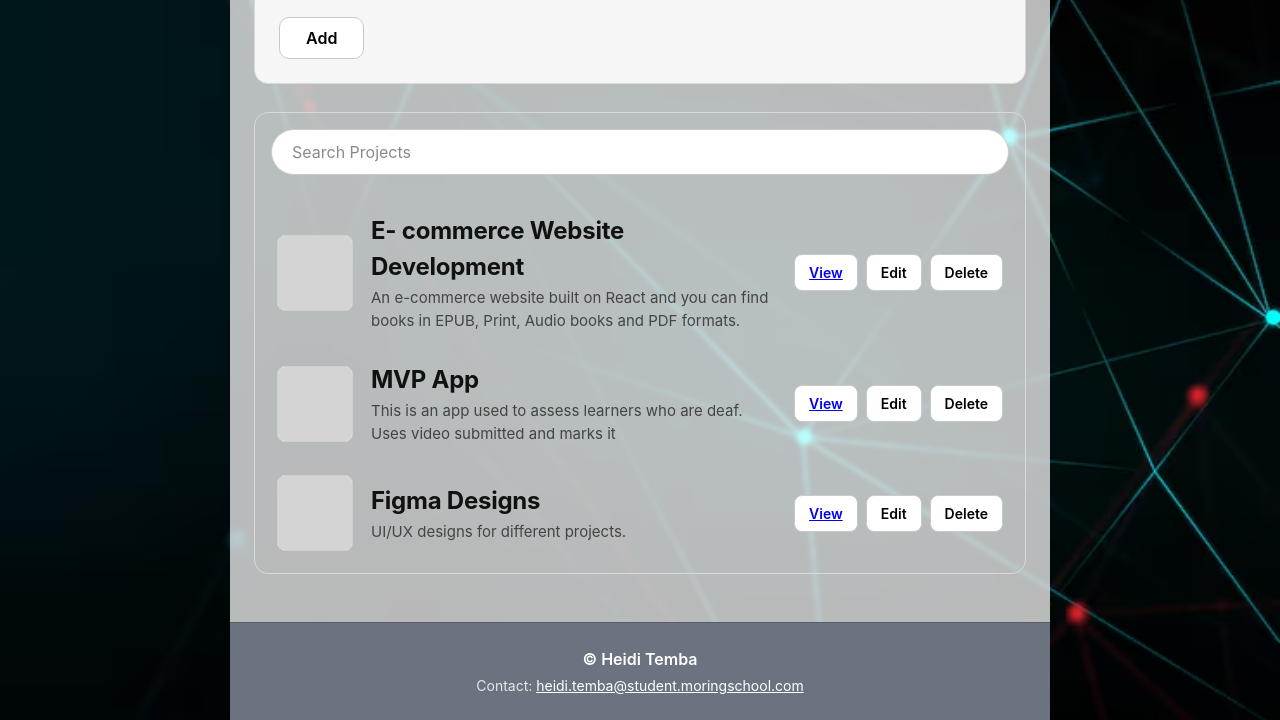
it: App (routing + CRUD) › routes to a project detail page when View is clicked
(page scrolled)
What coordinates should you click on to do the following:
click the link "View" in the row of "Figma Designs"
I would click on:
 (826, 513)
Its box is [794,494,858,532].
(page scrolled)
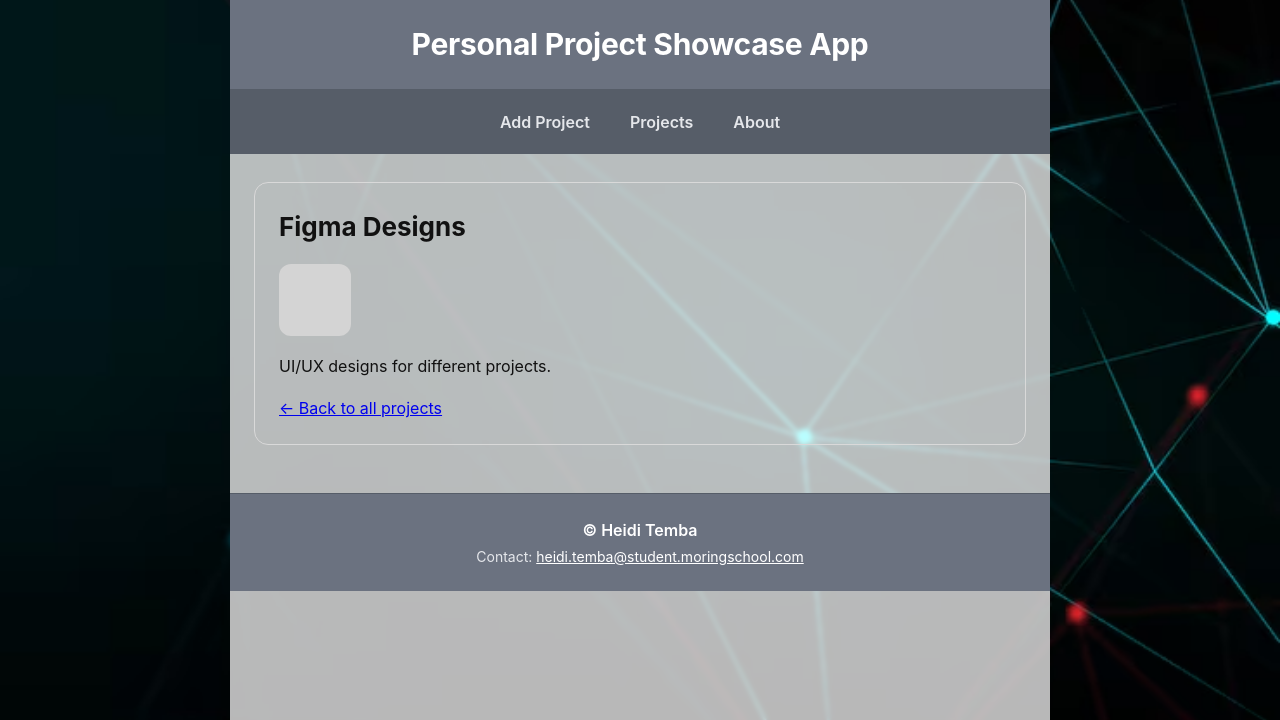
Expected: the text "UI/UX designs for different projects." is shown, [279,356,551,376]
Expected: the link "← Back to all projects" is shown, [279,398,442,418]
